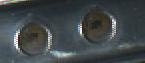joints: (77, 5, 119, 46), (13, 17, 52, 59)
